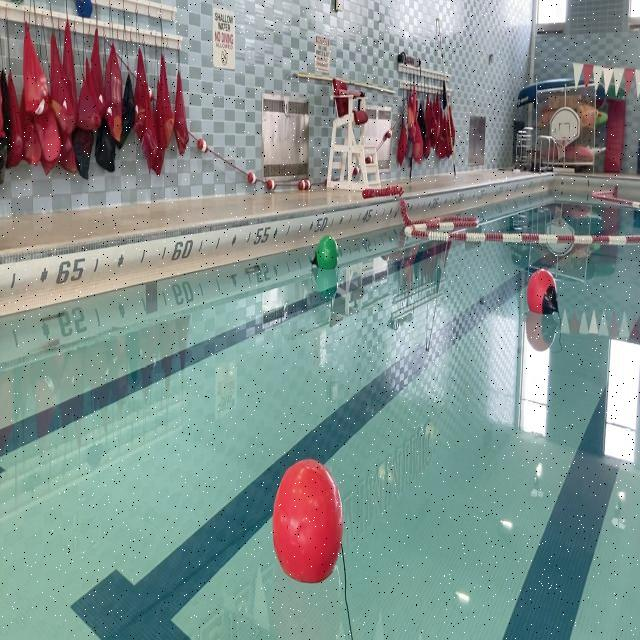buoy: (272, 457, 344, 586), (526, 262, 560, 323), (310, 234, 340, 280)
